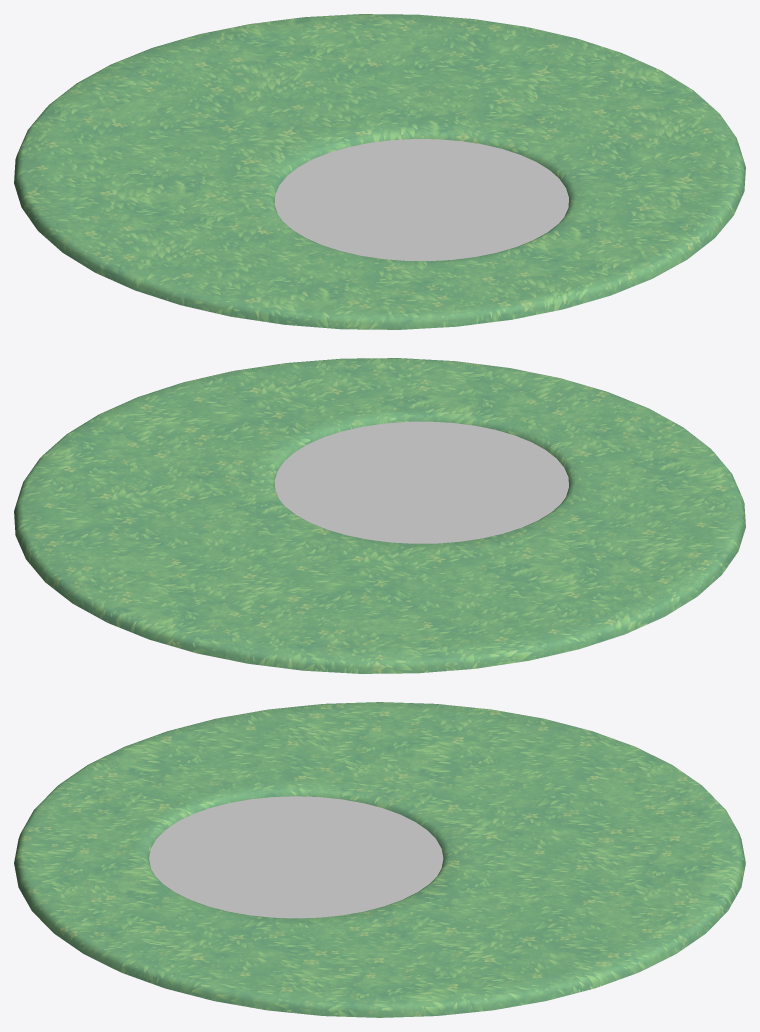
Rendered from Field.fbx.
3 renders of one model, top to bottom at view 1: azimuth 30°, elevation 25°; view 2: azimuth 150°, elevation 25°; view 3: azimuth 270°, elevation 25°, orthographic.
Parts seen in each view (by area): view 1: Cylinder001, Plane001; view 2: Cylinder001, Plane001; view 3: Cylinder001, Plane001.
Boxes of the visible parts, x1,y1,x2,y2 form: Cylinder001: (14, 14, 745, 329); Plane001: (274, 139, 568, 261); Cylinder001: (14, 358, 745, 673); Plane001: (274, 421, 568, 543); Cylinder001: (14, 702, 745, 1017); Plane001: (149, 796, 443, 918).
Bounding box in the file's own units: 284 × 4.38 × 284.
